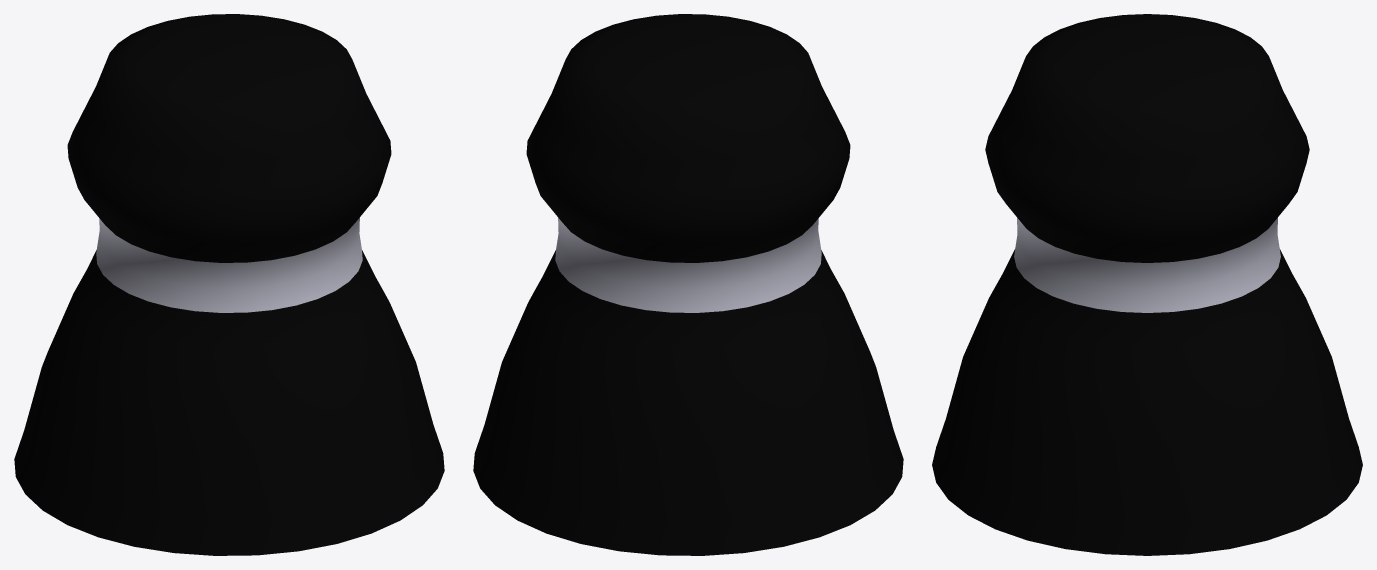
File: body.gltf
The picture shows the model from 3 angles, left to right: view 1: azimuth 30°, elevation 25°; view 2: azimuth 150°, elevation 25°; view 3: azimuth 270°, elevation 25°; orthographic projection.
Visible parts, largest first — view 1: Sphere.057; view 2: Sphere.057; view 3: Sphere.057.
Boxes of the visible parts, <box> form: Sphere.057: <box>14,14,444,555</box>; Sphere.057: <box>473,14,903,555</box>; Sphere.057: <box>932,14,1362,555</box>.
Bounding box in the file's own units: 0.3694 × 0.3939 × 0.3694.
2 materials, 2 textured.
